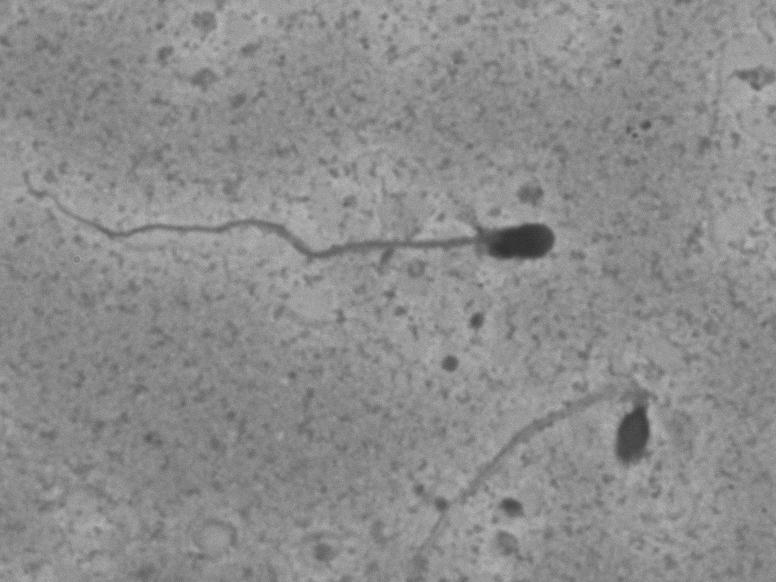Abnormal: (25, 133, 580, 300), (394, 353, 681, 553)
